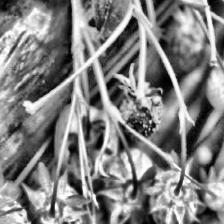Gray Mold: (112, 62, 164, 145)
